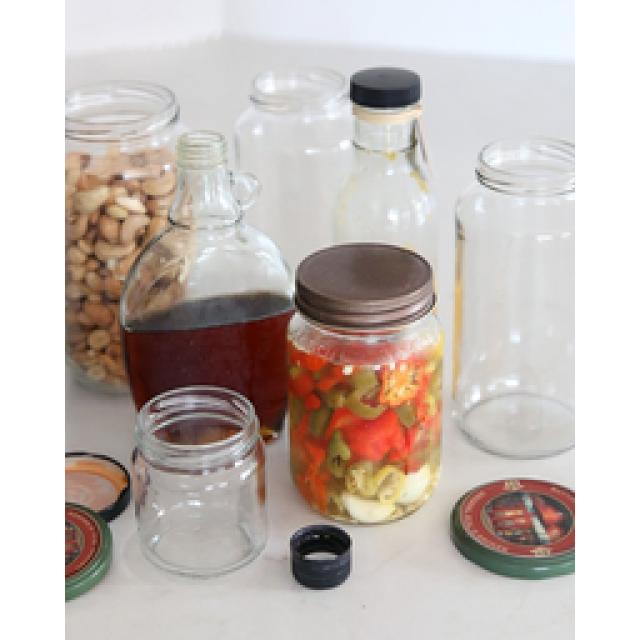glass: (230, 70, 438, 310), (442, 140, 572, 458), (130, 385, 265, 575)
